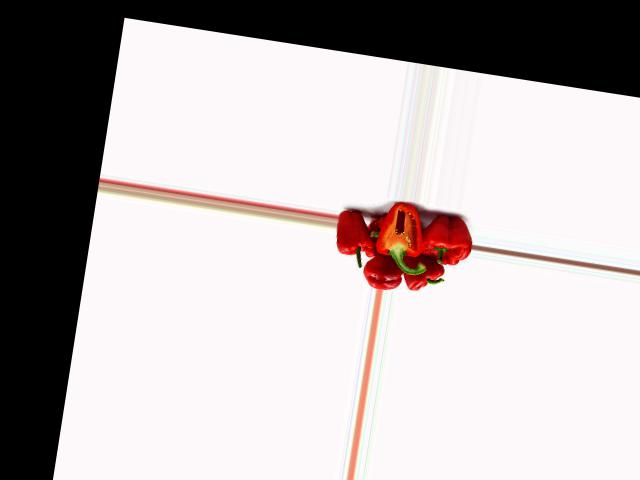bell_pepper: (399, 254, 447, 295)
